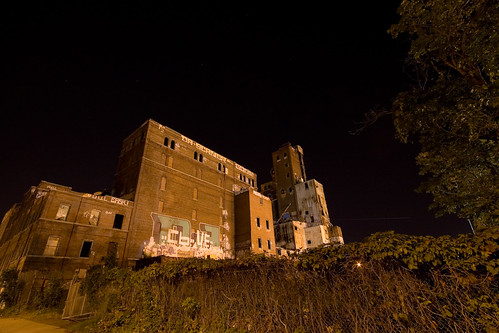building: (1, 124, 266, 312), (269, 137, 342, 251)
sky: (1, 1, 413, 206)
tree: (395, 4, 499, 217)
